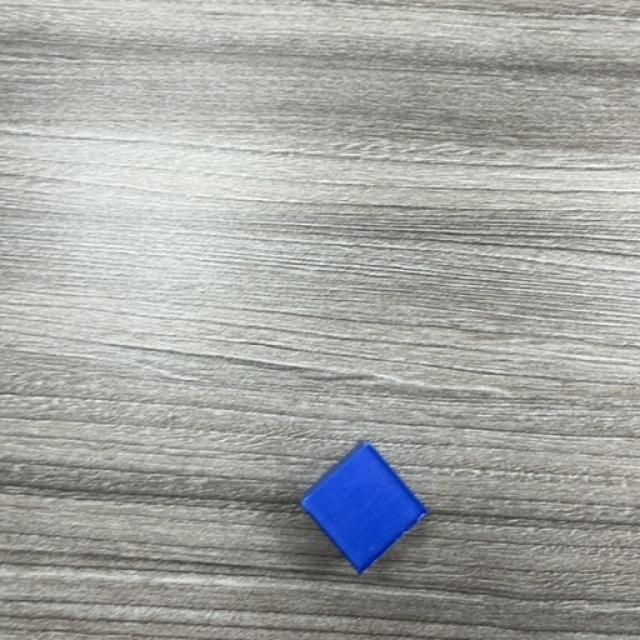Azul: (300, 442, 430, 575)
